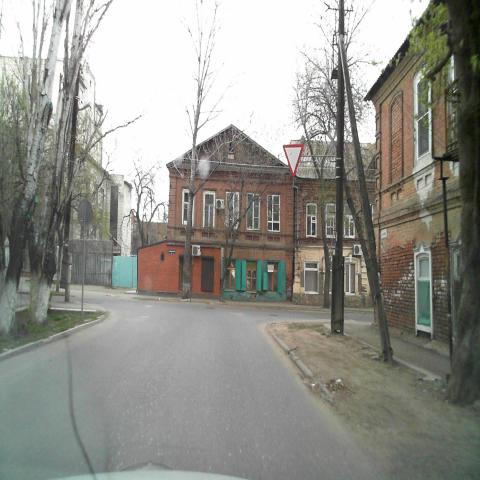2_4: (282, 144, 305, 177)
